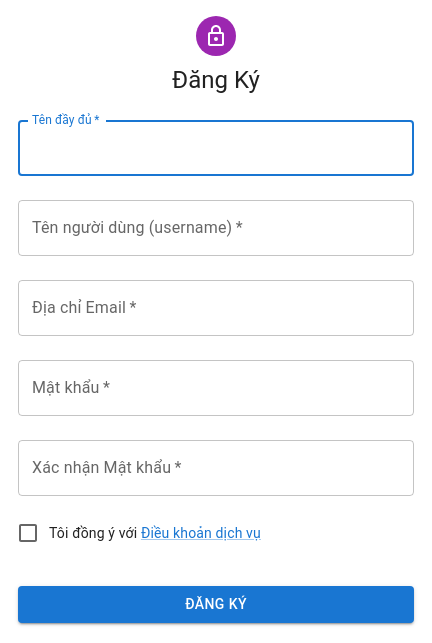
Test: RegisterPage Component › shows default error Alert if AuthService.register fails without a message
In the field labelled "Tên đầy đủ *": (216, 148) [18,120,414,176], type "Test User"
In the field labelled "Tên người dùng (username) *": (216, 228) [18,200,414,256], type "testuser"
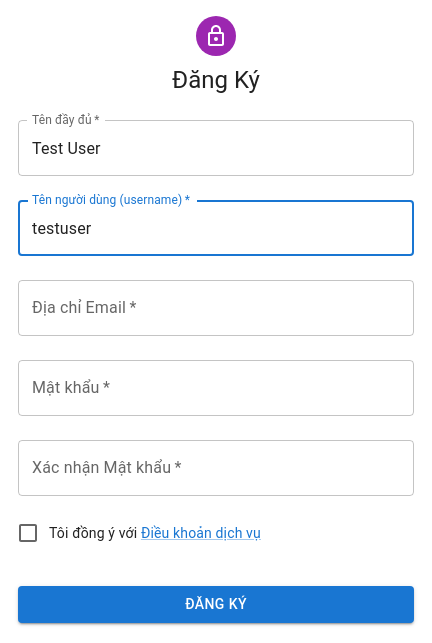
In the field labelled "Địa chỉ Email *": (216, 308) [18,280,414,336], type "test@example.com"
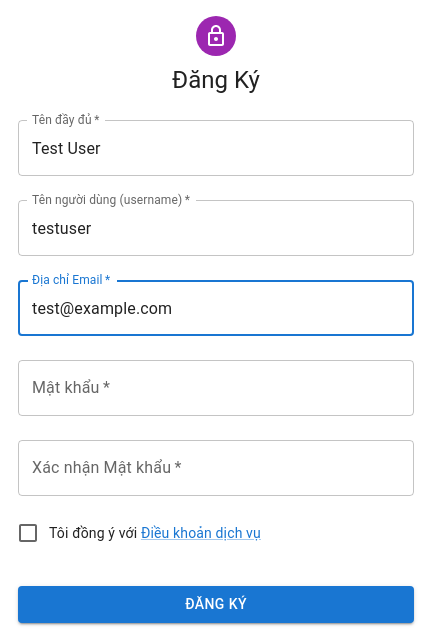
In the password field labelled "Mật khẩu *": (216, 388) [18,360,414,416], type "password123"
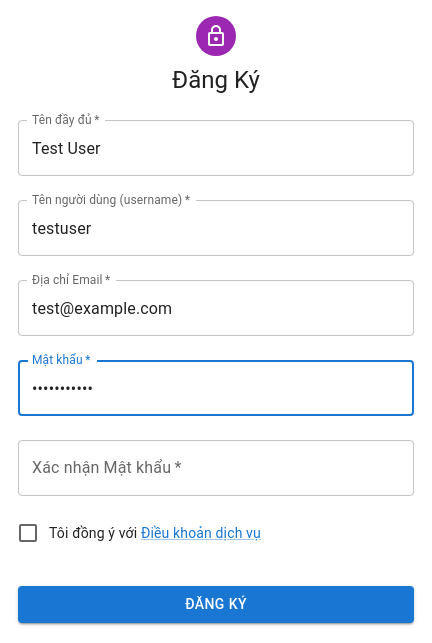
In the password field labelled "Xác nhận Mật khẩu *": (216, 468) [18,440,414,496], type "password123"
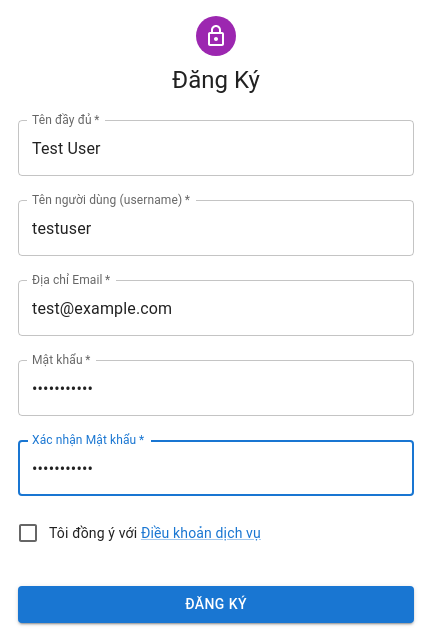
Click the checkbox labelled "Tôi đồng ý với Điều khoản dịch vụ": (138, 533) [16,521,261,545]
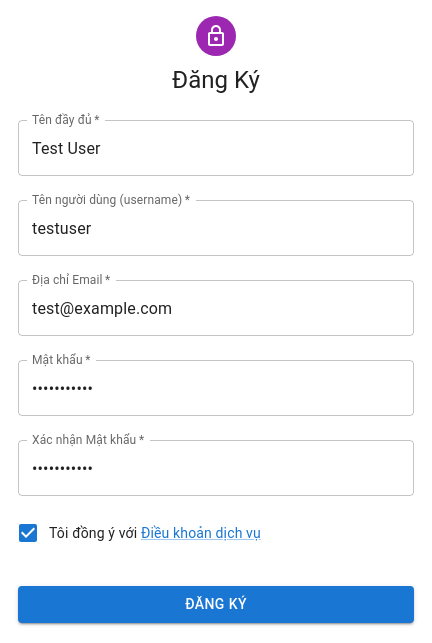
Click the button "Đăng Ký": (216, 604) [18,586,414,622]
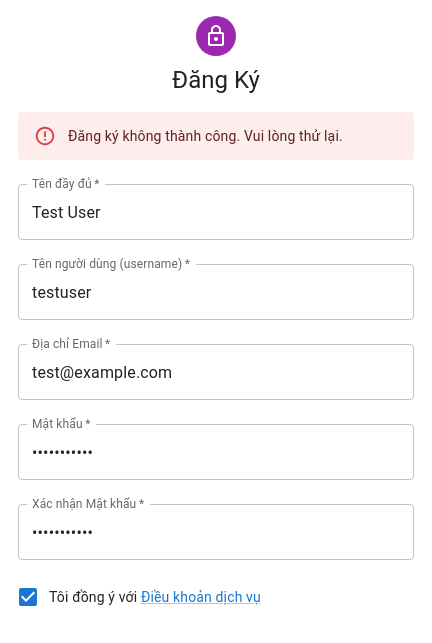
expect the message reads "Đăng ký không thành công. Vui lòng thử lại.": met, box [68,128,343,144]
